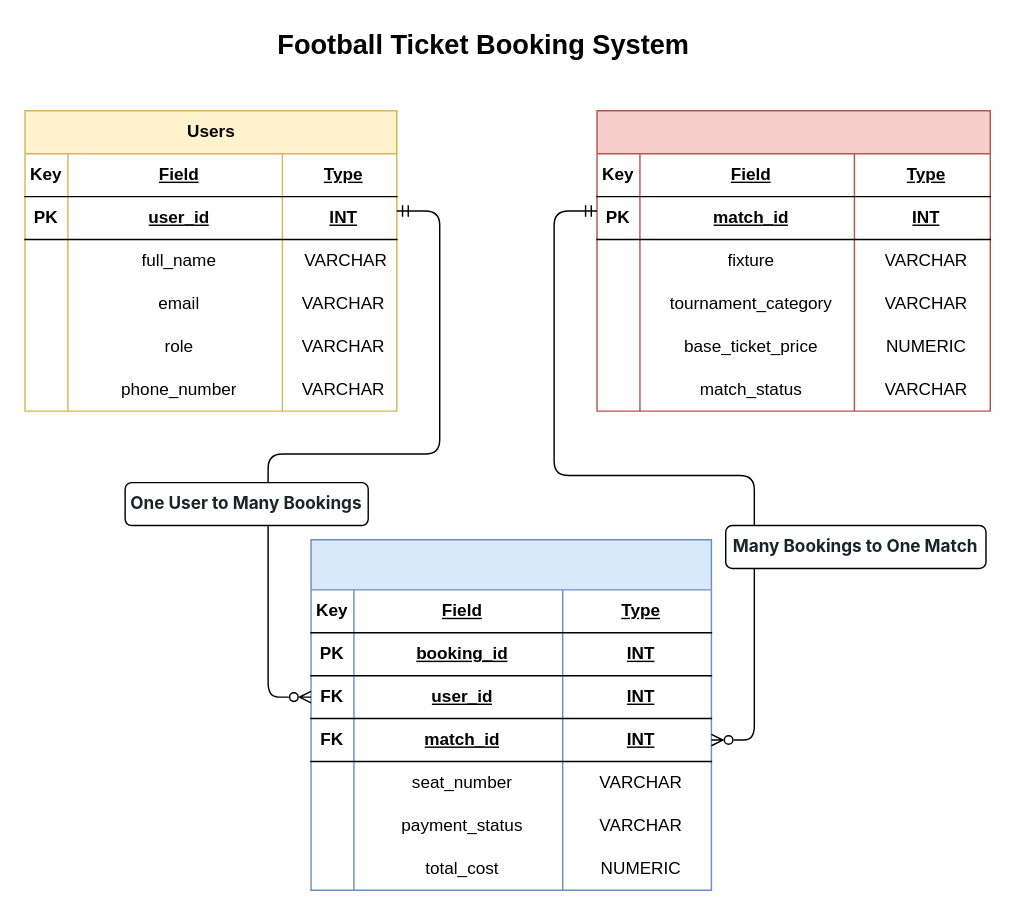
Some shapes in this 1015 by 915 pixel diagram are drawn without their labels. The box of each missing label's shape, as (x1, y1, x2, y2) in pixels:
Bookings: (310, 538, 711, 890)
Matches: (596, 109, 990, 411)
